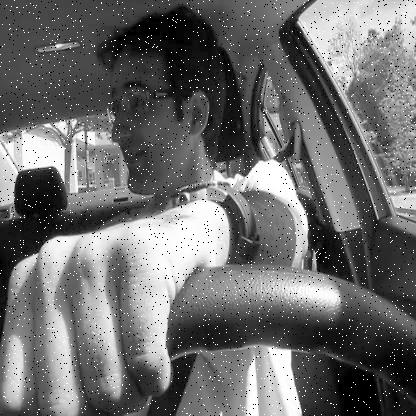seatbelt: (82, 0, 306, 416)
